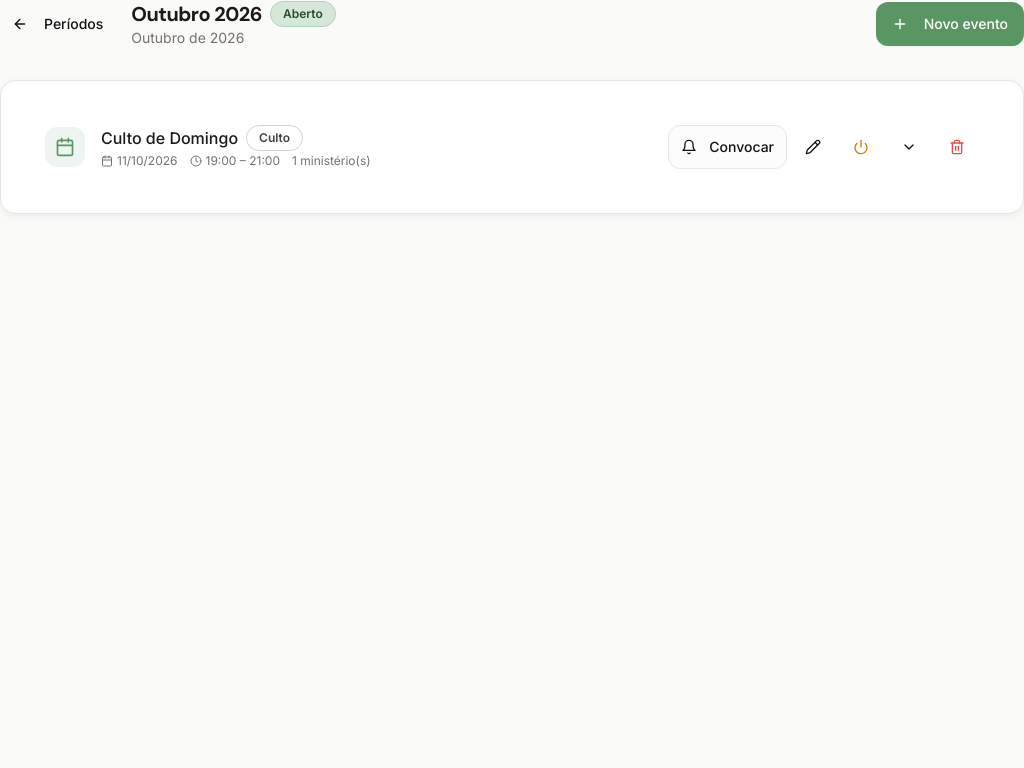
Test case: EscalasPeriodoDetalhe — "Selecionar todos" no modal Convocar › marcar todos: seleciona os selecionáveis e mostra o contador certo
Expected: the text "Culto de Domingo" is shown, [101,126,238,150]
Click the button "Convocar". click: (728, 147)
box: [668,125,787,169]
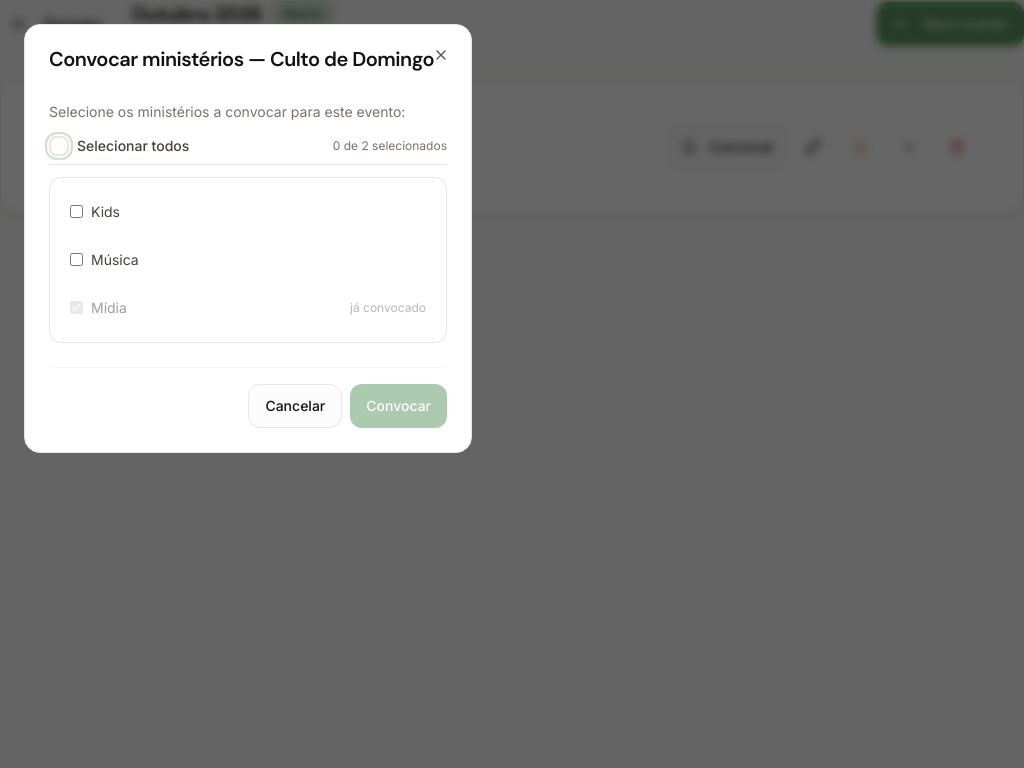
Expected: the heading "Convocar ministérios — Culto de Domingo" is shown, [49,49,447,69]
Expected: the text "0 de 2 selecionados" is shown, [333,138,447,154]
Click the checkbox named "selecionar todos". click: (59, 146)
box: [49,136,69,156]
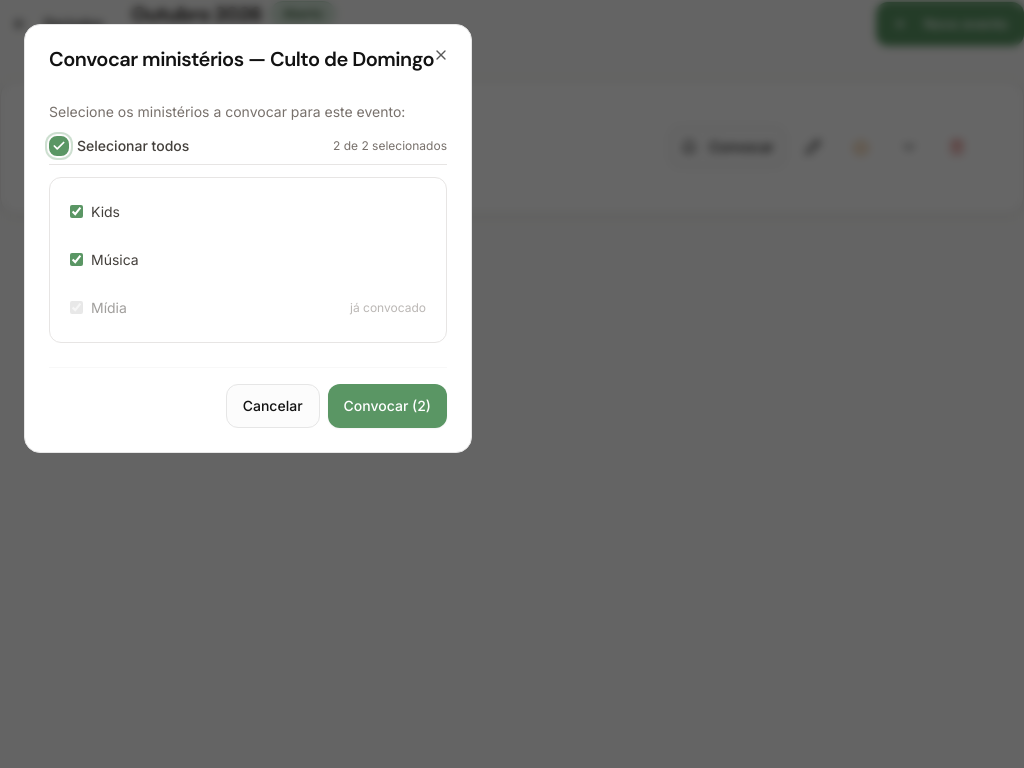
Expected: the text "2 de 2 selecionados" is shown, [333,138,447,154]
Expected: the checkbox labelled "Kids" is checked, [70,205,83,218]
Expected: the checkbox labelled "Música" is checked, [70,253,83,266]
